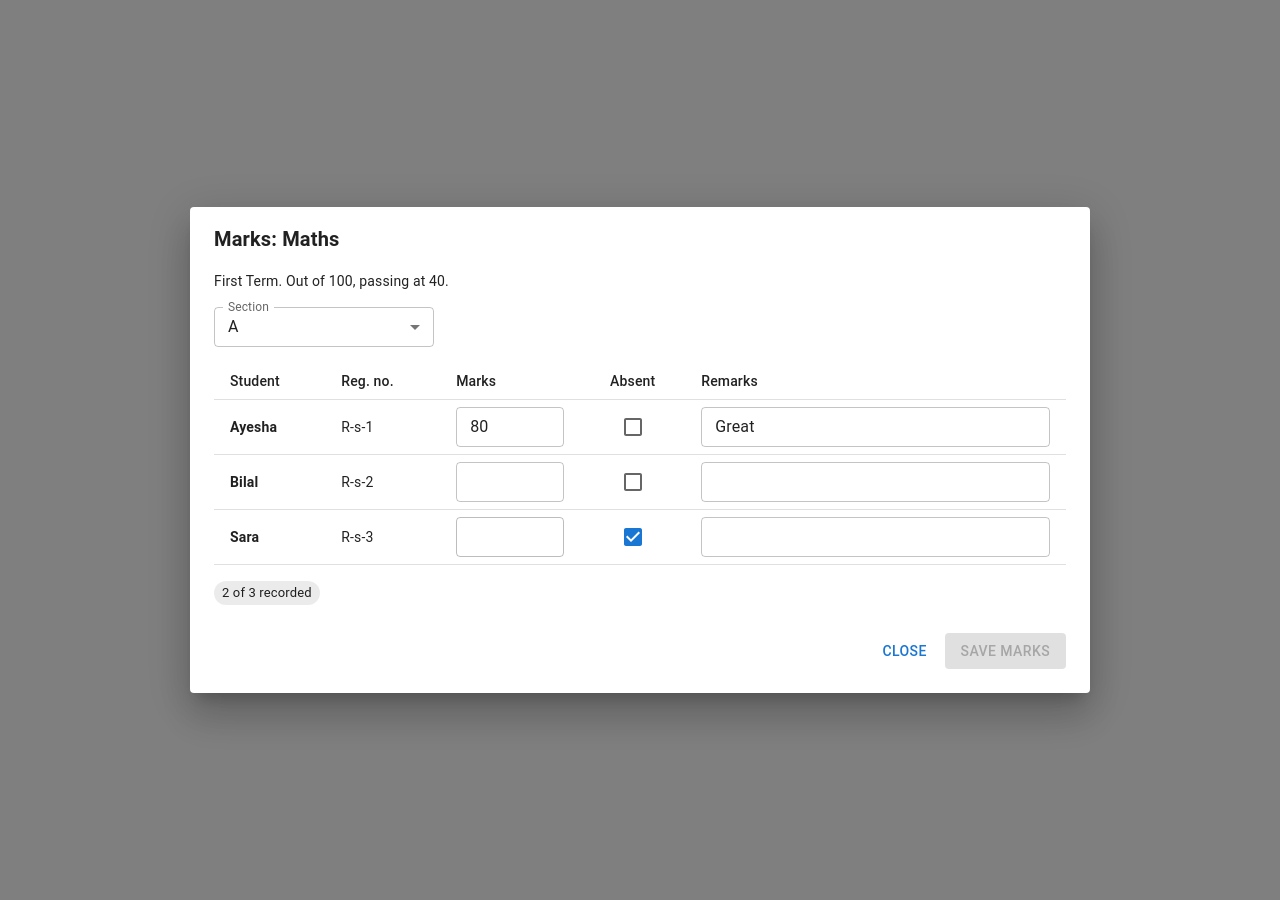
MarksEntryDialog › offers only sections of this class
expect the text "Ayesha" is shown: met, box [214,399,325,454]
Press the mouse on the dropdown named "Section" at (233,327), box [228,317,239,336]
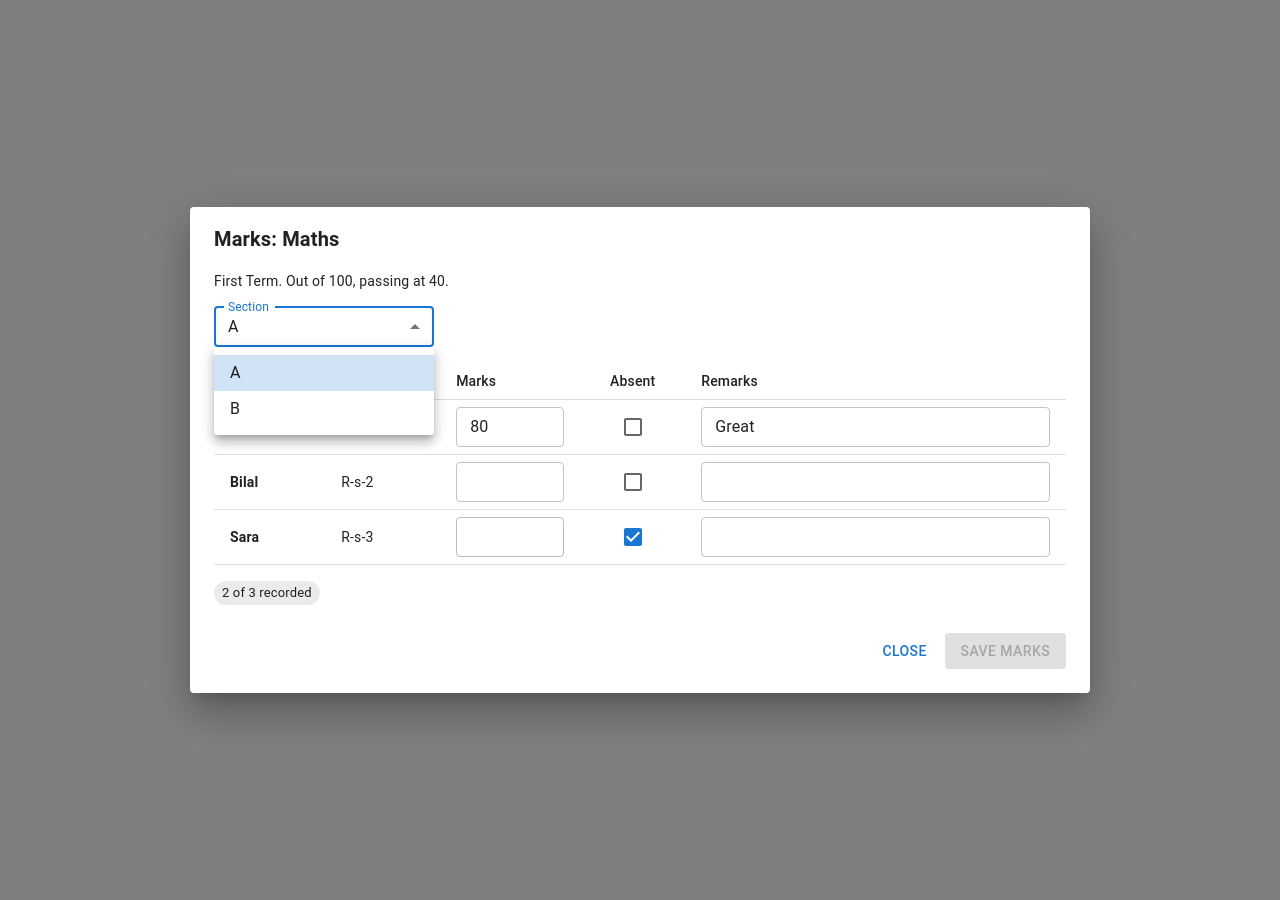
expect the option "A" is shown: met, box [214,355,434,391]
expect the option "B" is shown: met, box [230,399,240,418]
